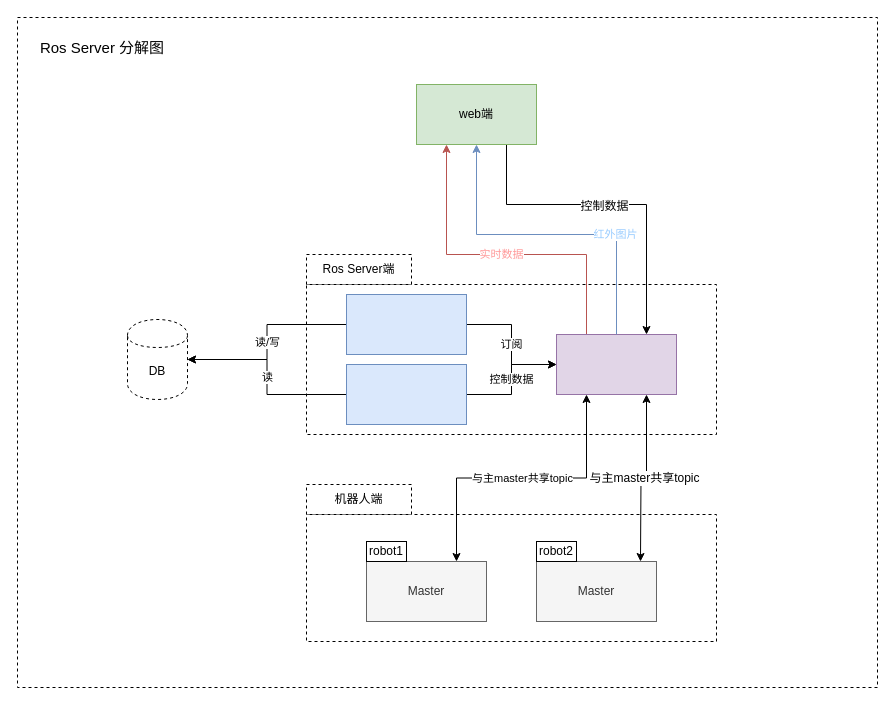
The diagram is 895 pixels wide and 705 high, and some of its shapes have lost their labels. Each missing label, with the centre of its shape:
node节点 处理实时数据写库: the point at 406,324
主Master: the point at 616,364
定时器 处理定时任务/周期任务: the point at 406,394
